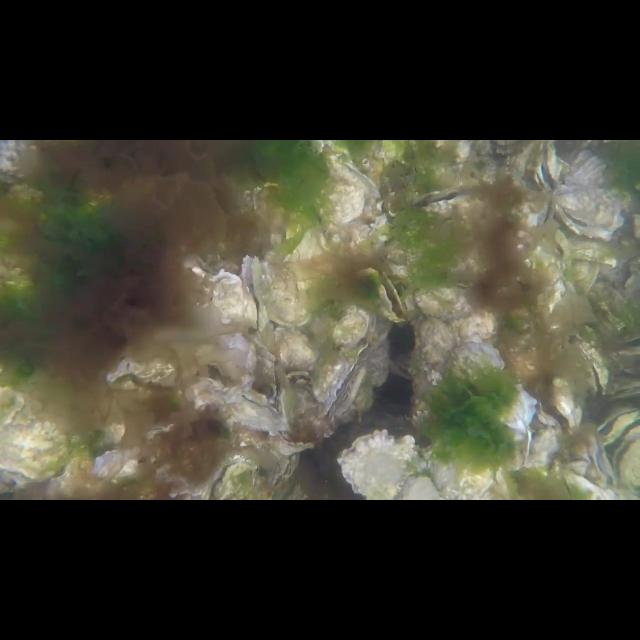Oyster-Closed: (420, 430, 516, 500), (313, 344, 369, 422), (216, 391, 290, 437), (270, 428, 316, 458)
Oyster-Indeterminate: (442, 343, 538, 432), (0, 384, 72, 488), (336, 430, 416, 500), (309, 140, 366, 232), (284, 210, 336, 288), (262, 249, 310, 329), (412, 318, 456, 404), (331, 306, 392, 352), (412, 284, 482, 320), (272, 326, 320, 376), (554, 230, 614, 268), (563, 258, 601, 300), (94, 449, 138, 481)
Oyster-Open: (551, 152, 639, 242), (529, 372, 583, 438), (105, 357, 178, 398), (244, 334, 278, 408), (611, 425, 640, 498), (210, 269, 246, 327), (241, 256, 265, 334), (578, 338, 608, 398), (588, 432, 618, 490), (412, 188, 474, 216), (594, 408, 640, 444), (377, 272, 408, 324), (534, 140, 560, 196), (606, 380, 640, 402)
